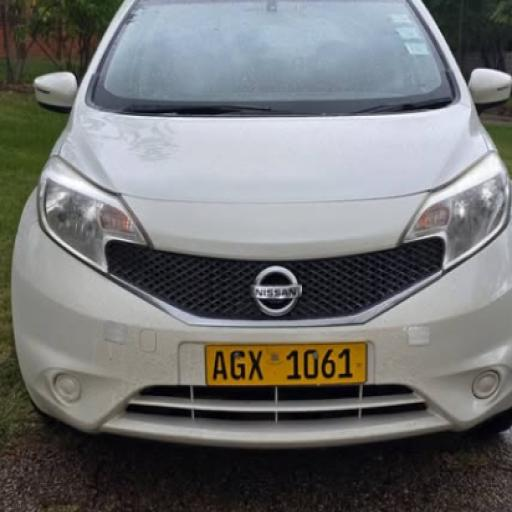number-plates: (205, 344, 365, 382)
